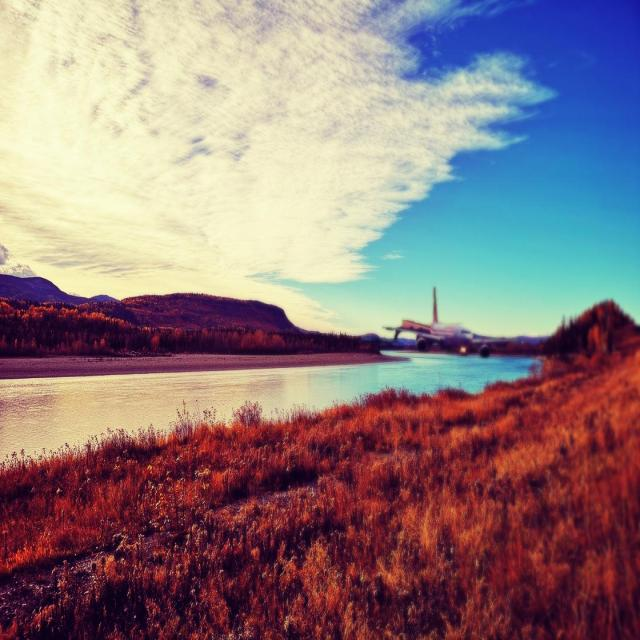airplane: (360, 286, 552, 357)
